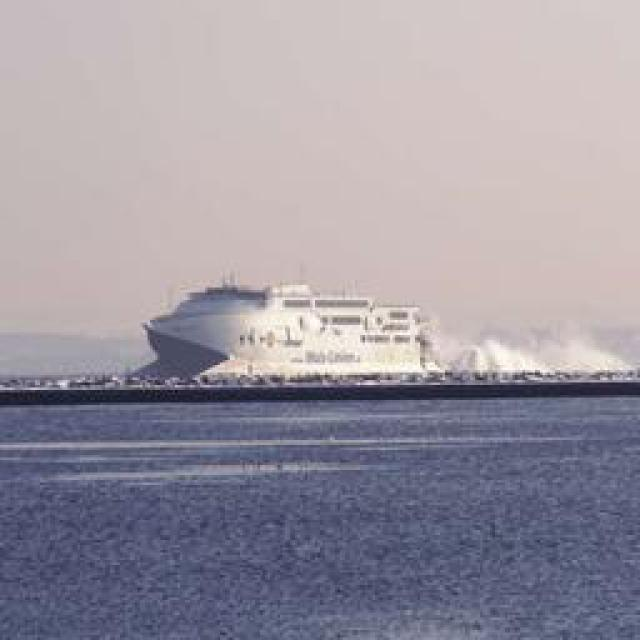Ship: (143, 280, 458, 388)
